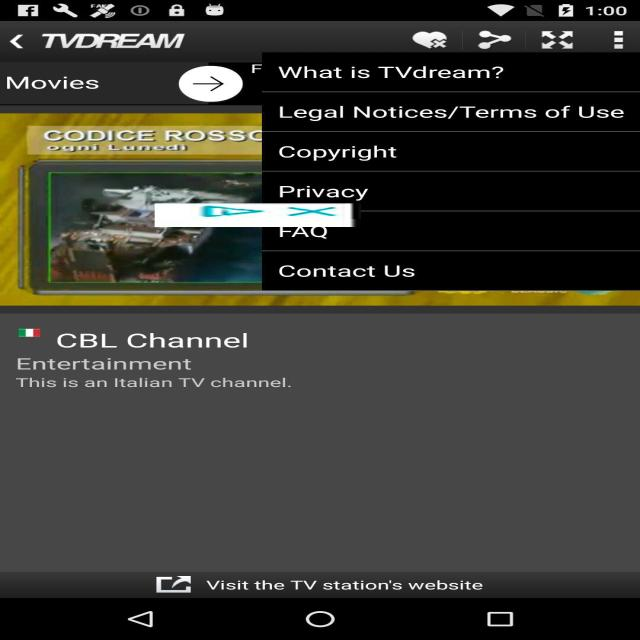sneaking: (155, 203, 361, 227)
